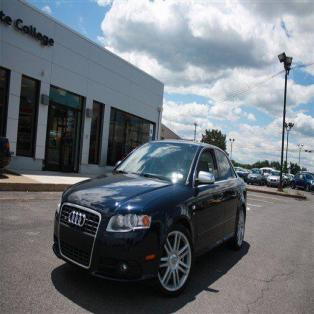Auto: (52, 137, 249, 299)
